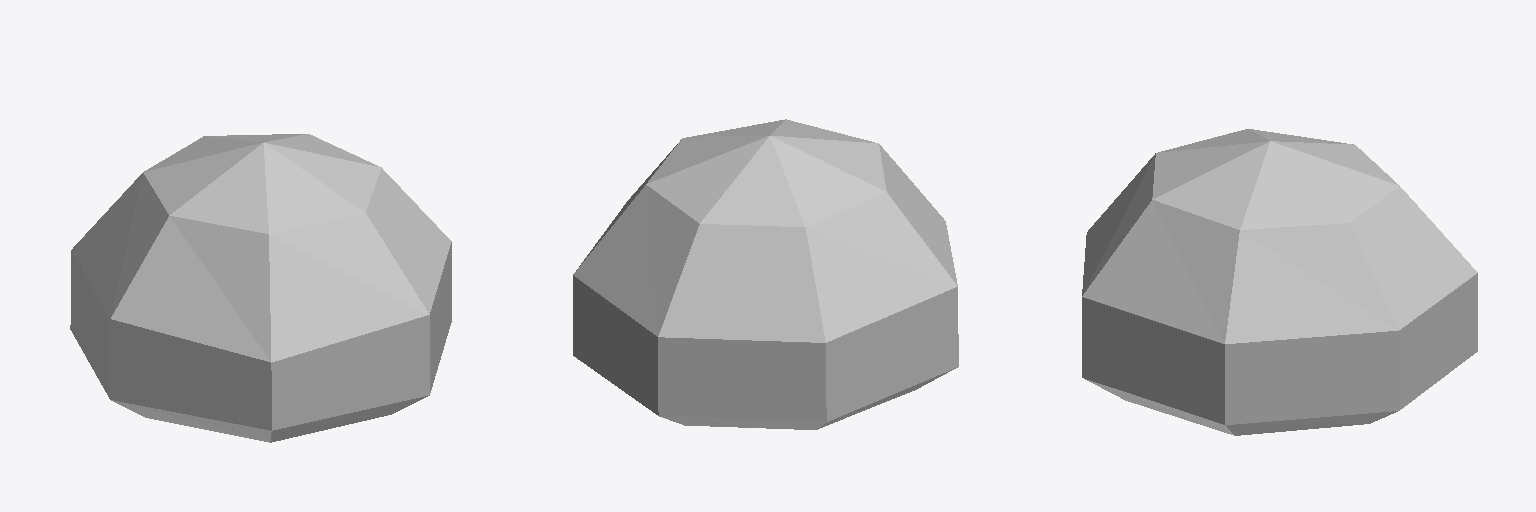
The model's file is bush_A.obj.
3 views of the same model, side by side, from view 1: azimuth 30°, elevation 25°; view 2: azimuth 150°, elevation 25°; view 3: azimuth 270°, elevation 25° (orthographic).
Parts seen in each view (by area): view 1: bush_A_Cube.14215; view 2: bush_A_Cube.14215; view 3: bush_A_Cube.14215.
Part boxes in pixels (x1,y1,x2,y2): bush_A_Cube.14215: (70, 134, 451, 442); bush_A_Cube.14215: (573, 119, 958, 429); bush_A_Cube.14215: (1082, 129, 1477, 435).
Bounding box in the file's own units: 0.5099 × 0.3365 × 0.5195.